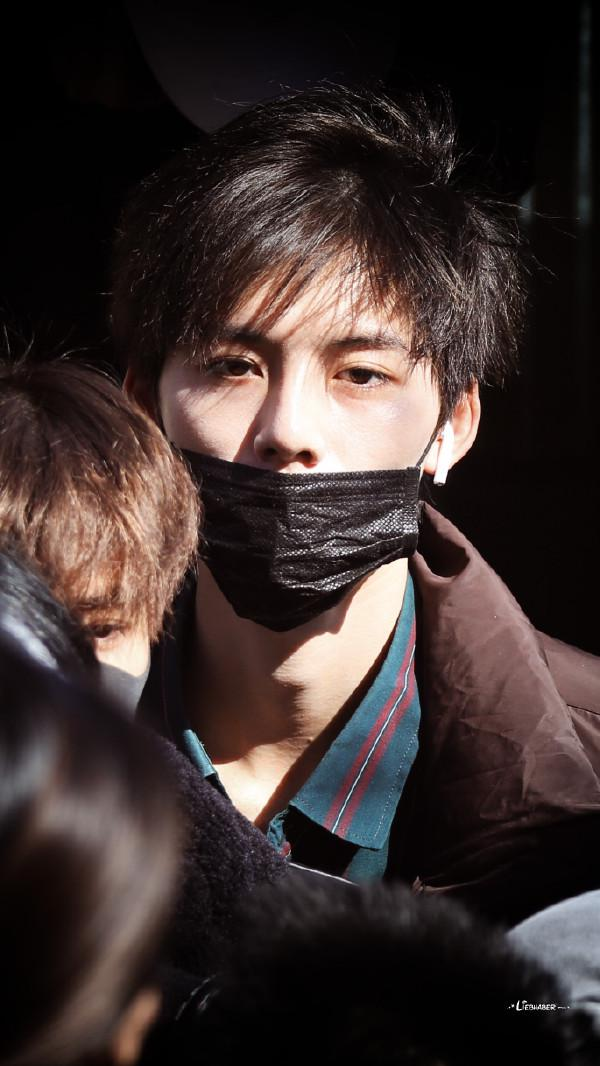WRONG: (163, 273, 439, 626)
